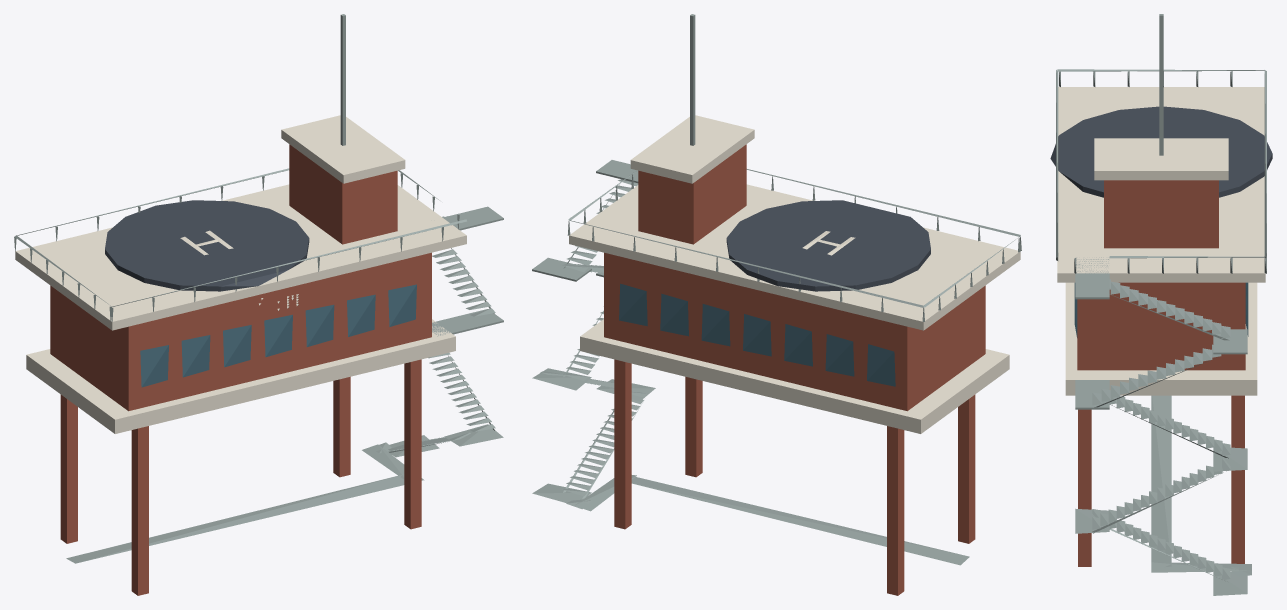
File: rem-eiland.lod1.glb
3 renders of one model, left to right at view 1: azimuth 30°, elevation 25°; view 2: azimuth 150°, elevation 25°; view 3: azimuth 270°, elevation 25°, orthographic. The views are drawn at different scales.
Visible parts, largest first — view 1: rem-eiland; view 2: rem-eiland; view 3: rem-eiland.
Boxes of the visible parts, x1=… form: rem-eiland: x1=14, y1=14, x2=503, y2=595; rem-eiland: x1=532, y1=14, x2=1021, y2=595; rem-eiland: x1=1050, y1=14, x2=1272, y2=595.
Size of the model in its own units: 29.11 by 34.2 by 12.96.
